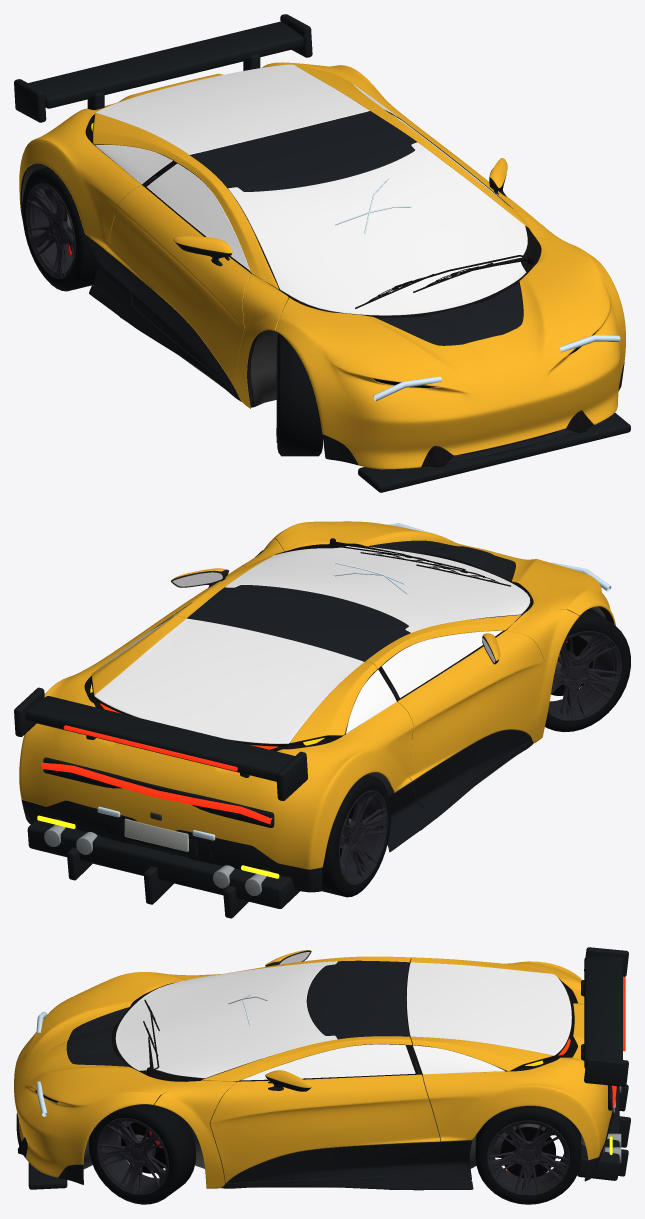
Rendered from car_crash_gt650.fbx.
The picture shows the model from 3 angles, top to bottom: view 1: azimuth 30°, elevation 25°; view 2: azimuth 150°, elevation 25°; view 3: azimuth 270°, elevation 25°; orthographic projection. The views are drawn at different scales.
Visible parts, largest first — view 1: BodyHood, BodyWindshield, BodyRearwindow, BodyDoorRColor1, BodyRearPanelsColor1, BodyRoofPanel, Damage_Active_Rear_Wing, BodyPillars, BodyPanelsColor2, BodyHoodTopgrill, Wheel_FR, Damage_Front_Splitter (+11 smaller); view 2: BodyRearPanelsColor1, BodyRearwindow, BodyWindshield, BodyDoorRColor1, BodyRoofPanel, BodyPanelsColor2, Damage_Active_Rear_Wing, BodyHood, Damage_Rear_Diffuser, BodyPillars, WheelFrontRRim, BodyDoorRColor2 (+15 smaller); view 3: BodyWindshield, BodyDoorLColor1, BodyHood, BodyRearPanelsColor1, BodyRearwindow, BodyRoofPanel, BodyPillars, BodyDoorLColor2, BodyPanelsColor2, Wheel_FL, Damage_Active_Rear_Wing, WheelRearLRim (+17 smaller).
Part boxes in pixels (x1,y1,x2,y2): BodyHood: [275, 237, 625, 469]; BodyWindshield: [228, 142, 527, 315]; BodyRearwindow: [96, 64, 369, 154]; BodyDoorRColor1: [105, 185, 250, 393]; BodyRearPanelsColor1: [19, 62, 414, 249]; BodyRoofPanel: [190, 111, 416, 191]; Damage_Active_Rear_Wing: [28, 21, 303, 108]; BodyPillars: [173, 107, 574, 408]; BodyPanelsColor2: [20, 208, 624, 465]; BodyHoodTopgrill: [375, 282, 523, 345]; Wheel_FR: [277, 333, 322, 456]; Damage_Front_Splitter: [358, 413, 630, 492]; BodyRearPanelsColor1: [19, 615, 413, 869]; BodyRearwindow: [94, 618, 363, 743]; BodyWindshield: [225, 546, 530, 632]; BodyDoorRColor1: [397, 630, 544, 781]; BodyRoofPanel: [187, 585, 410, 661]; BodyPanelsColor2: [21, 740, 533, 892]; Damage_Active_Rear_Wing: [25, 696, 294, 781]; BodyHood: [272, 521, 615, 625]; Damage_Rear_Diffuser: [27, 819, 299, 908]; BodyPillars: [173, 538, 579, 743]; WheelFrontRRim: [548, 631, 621, 721]; BodyDoorRColor2: [412, 729, 531, 807]; BodyWindshield: [115, 961, 337, 1078]; BodyDoorLColor1: [210, 1074, 440, 1183]; BodyHood: [14, 972, 185, 1177]; BodyRearPanelsColor1: [410, 957, 612, 1160]; BodyRearwindow: [406, 962, 571, 1055]; BodyRoofPanel: [307, 960, 409, 1039]; BodyPillars: [154, 956, 412, 1188]; BodyDoorLColor2: [226, 1141, 439, 1183]; BodyPanelsColor2: [16, 1108, 612, 1190]; Wheel_FL: [88, 1103, 196, 1204]; Damage_Active_Rear_Wing: [584, 956, 622, 1068]; WheelRearLRim: [487, 1120, 569, 1195].
Size of the model in its own units: 2.54 by 1.25 by 4.47.
Materials: 31 (1 with a texture image).
